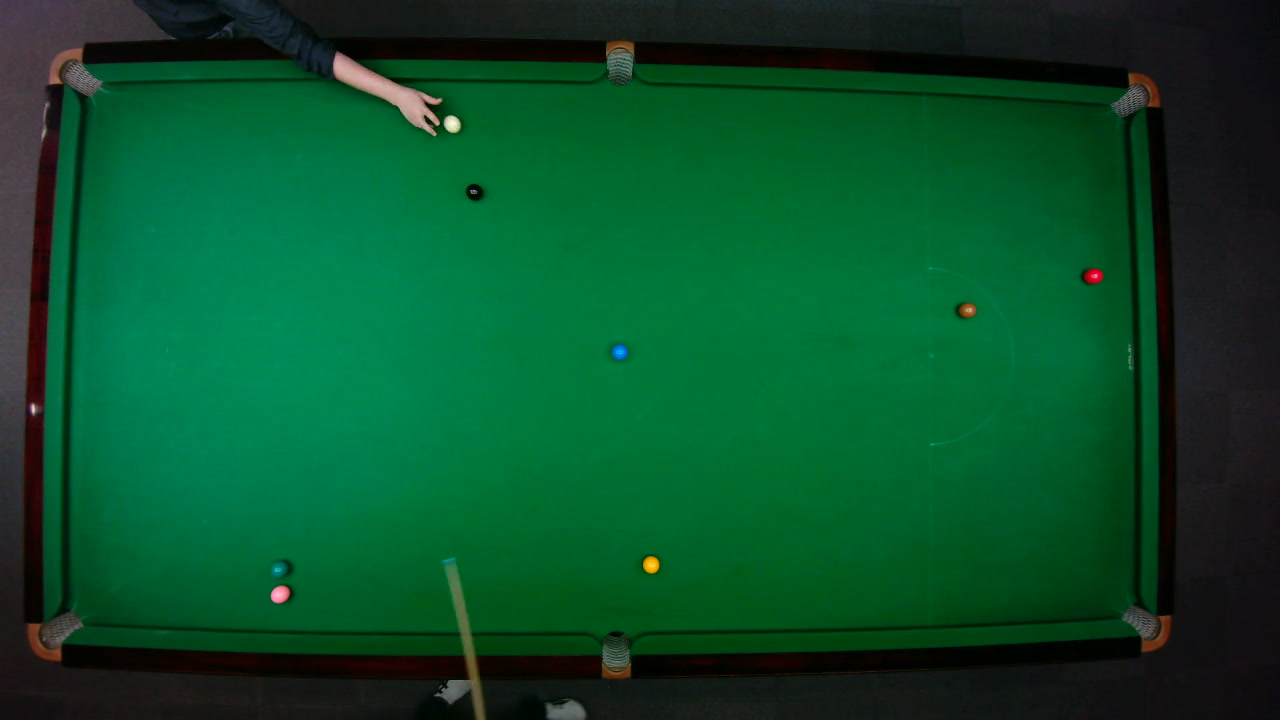bag: (25, 609, 84, 661), (46, 47, 102, 97), (1119, 603, 1171, 651), (1108, 71, 1161, 118), (601, 629, 630, 680), (605, 38, 633, 85)
black: (465, 183, 482, 200)
blue: (610, 342, 628, 360)
brown: (956, 301, 977, 317)
cue: (444, 559, 486, 716)
green: (269, 559, 289, 577)
pink: (269, 583, 290, 604)
red: (1082, 267, 1104, 284)
white: (441, 113, 462, 134)
yellow: (641, 554, 660, 574)
zone: (927, 265, 1014, 445)
